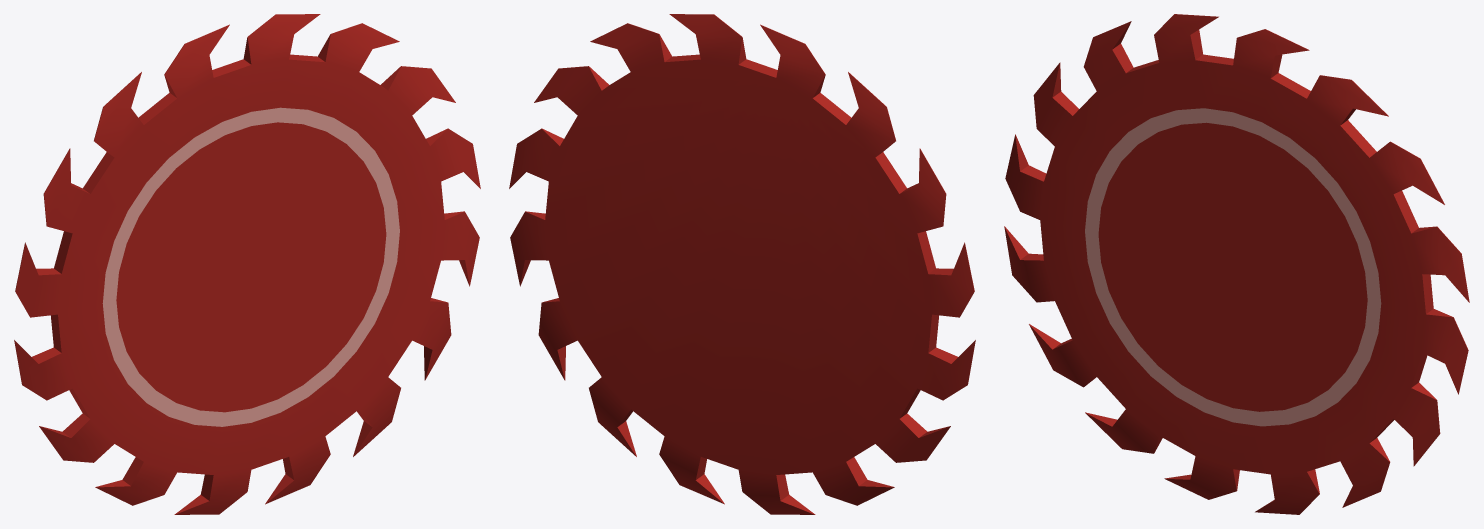
The model's file is testere_engel.fbx.
3 views of the same model, side by side, from view 1: azimuth 30°, elevation 25°; view 2: azimuth 150°, elevation 25°; view 3: azimuth 330°, elevation 25° (orthographic).
Parts seen in each view (by area): view 1: Circle; view 2: Circle; view 3: Circle.
Boxes of the visible parts, left/top/right/bottom form: Circle: left=14, top=14, right=480, bottom=514; Circle: left=509, top=14, right=975, bottom=514; Circle: left=1004, top=14, right=1469, bottom=514.
Bounding box in the file's own units: 136 × 136 × 4.42.
